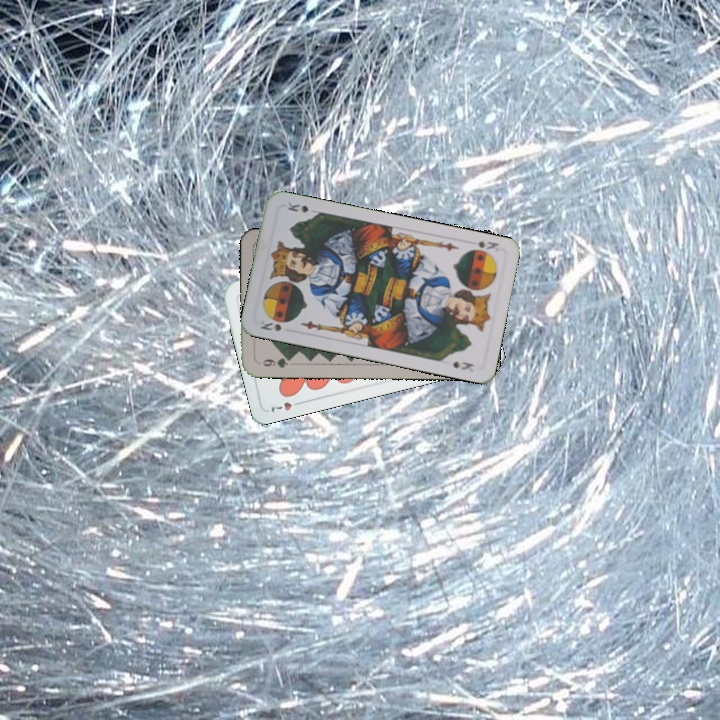G9: (254, 353, 295, 370)
H7: (267, 397, 306, 415)
SK: (255, 316, 284, 334), (473, 237, 501, 254)
